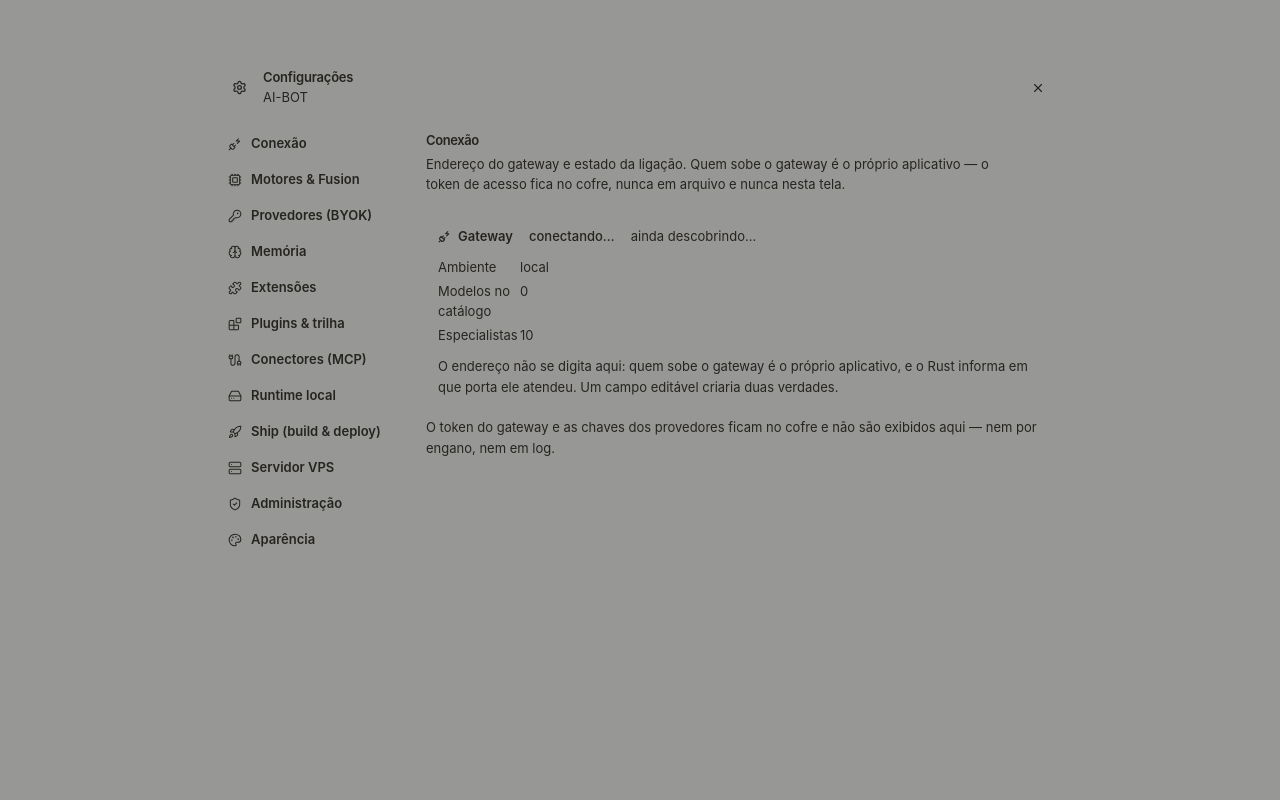
configurações sem gateway › na aba de navegador manda abrir o aplicativo, com o comando
The width and height of the screenshot is (1280, 800).
Click the button "Provedores (BYOK)" at (310, 216), box [218,199,402,233]
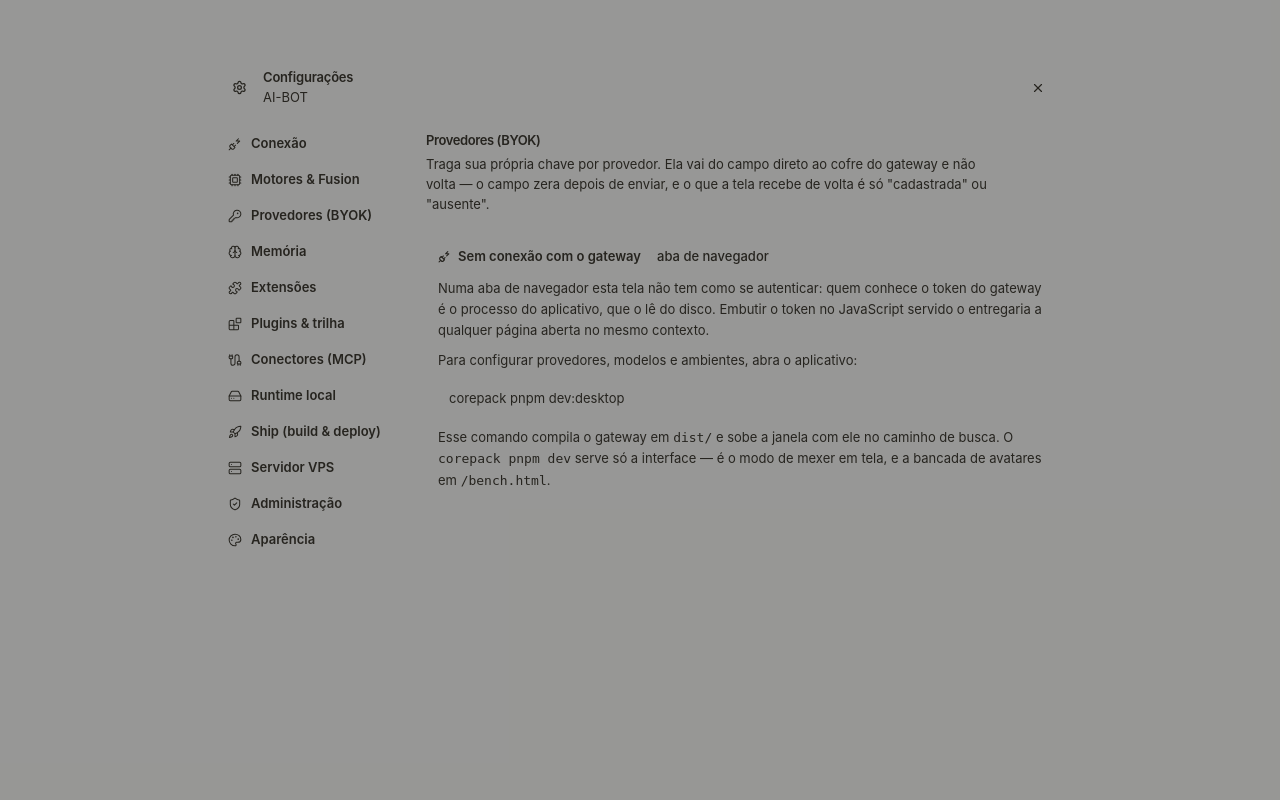
expect the element with class "settings-content" shows "Sem conexão com o gateway": met, box [458,248,641,264]
expect the element with class "settings-content" shows "aba de navegador": met, box [657,248,769,264]
expect the text with class "settings-comando" reads "corepack pnpm dev:desktop": met, box [449,390,624,406]
